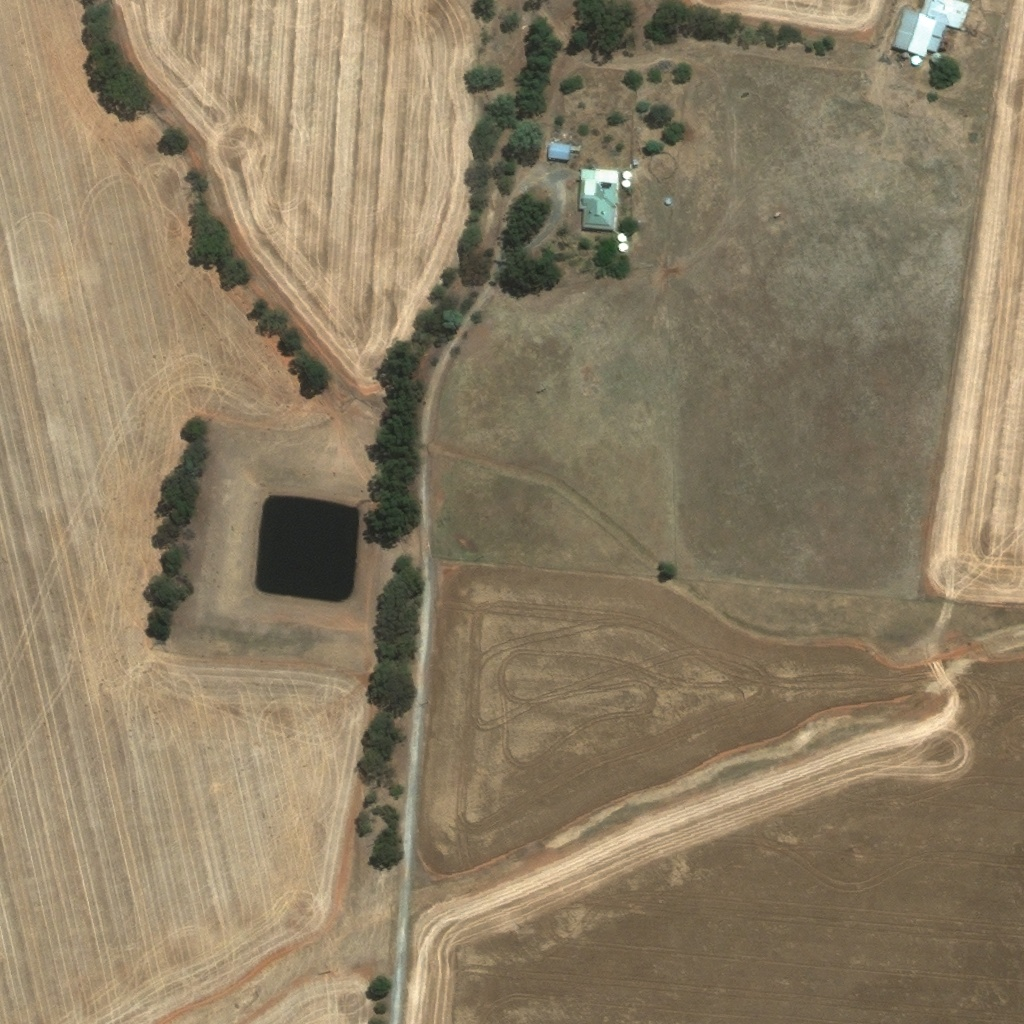0 no-damage: (578, 167, 620, 230), (890, 8, 936, 56), (548, 142, 570, 159), (616, 230, 629, 252), (621, 169, 632, 186), (910, 53, 922, 64), (931, 50, 943, 61), (570, 144, 580, 153), (902, 50, 910, 57)
